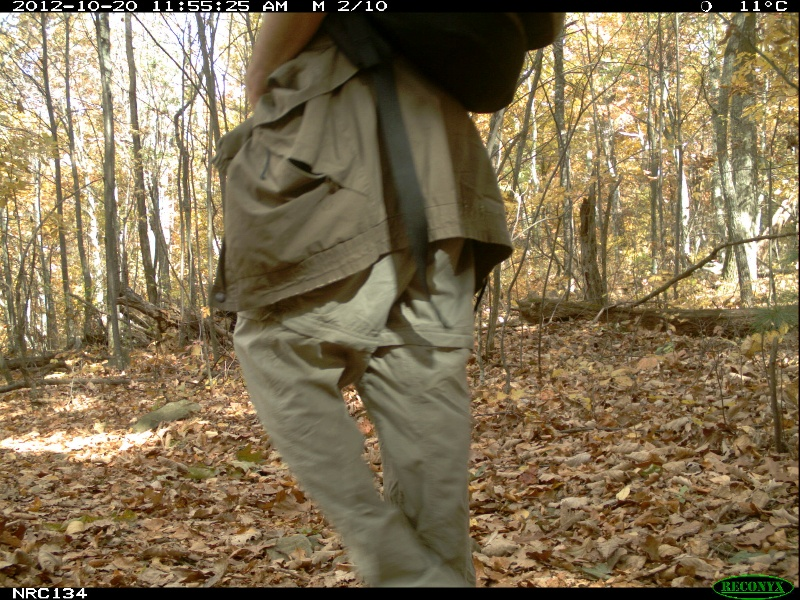human legs: (212, 91, 487, 581)
